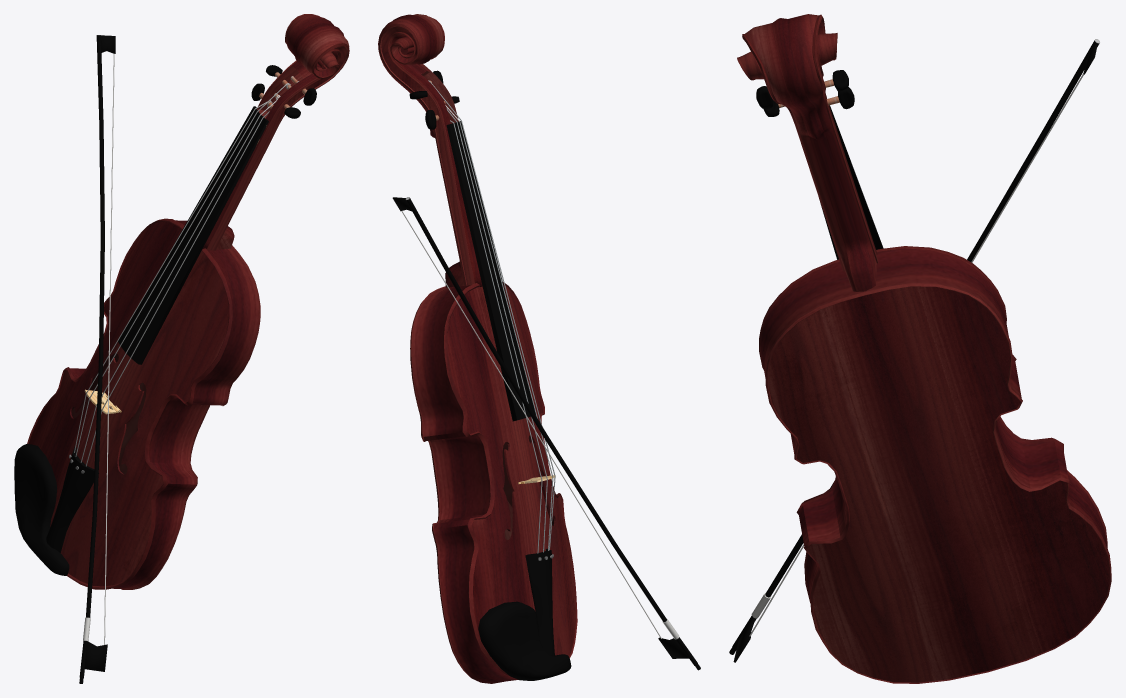
Rendered from Low_Poly_Classic_Violin_s_Anatomy.glb.
The picture shows the model from 3 angles, left to right: view 1: azimuth 30°, elevation 25°; view 2: azimuth 150°, elevation 25°; view 3: azimuth 270°, elevation 25°; orthographic projection. The views are drawn at different scales.
Parts seen in each view (by area): view 1: unnamed (×3); view 2: unnamed (×3); view 3: unnamed (×3).
Part boxes in pixels (box(x1,y1,x2,y2)): unnamed (×3): box(14, 14, 349, 683); unnamed (×3): box(378, 14, 700, 683); unnamed (×3): box(729, 14, 1111, 683).
Bounding box in the file's own units: 301 × 589 × 252.
3 materials, 2 textured.
